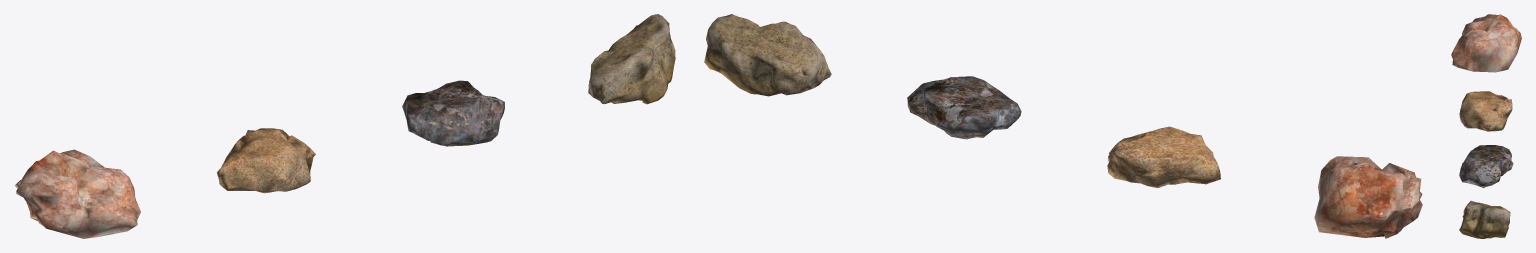
Rendered from namaqualand_rocks_01.lod.glb.
3 views of the same model, side by side, from view 1: azimuth 30°, elevation 25°; view 2: azimuth 150°, elevation 25°; view 3: azimuth 270°, elevation 25° (orthographic). The views are drawn at different scales.
Visible parts, largest first — view 1: namaqualand_rocks_02_a, namaqualand_rocks_02_d, namaqualand_rocks_02_c, namaqualand_rocks_02_b; view 2: namaqualand_rocks_02_d, namaqualand_rocks_02_a, namaqualand_rocks_02_b, namaqualand_rocks_02_c; view 3: namaqualand_rocks_02_a, namaqualand_rocks_02_b, namaqualand_rocks_02_c, namaqualand_rocks_02_d.
Boxes of the visible parts, x1,y1,x2,y2 form: namaqualand_rocks_02_a: (14, 149, 140, 238); namaqualand_rocks_02_d: (588, 14, 675, 104); namaqualand_rocks_02_c: (402, 80, 504, 146); namaqualand_rocks_02_b: (217, 128, 315, 193); namaqualand_rocks_02_d: (704, 14, 831, 96); namaqualand_rocks_02_a: (1314, 156, 1422, 238); namaqualand_rocks_02_b: (1107, 126, 1220, 187); namaqualand_rocks_02_c: (907, 76, 1021, 139); namaqualand_rocks_02_a: (1451, 14, 1521, 72); namaqualand_rocks_02_b: (1459, 91, 1512, 131); namaqualand_rocks_02_c: (1459, 145, 1513, 187); namaqualand_rocks_02_d: (1459, 200, 1510, 238).
Bounding box in the file's own units: 1.45 × 0.151 × 0.2156.
1 material, 1 textured.
